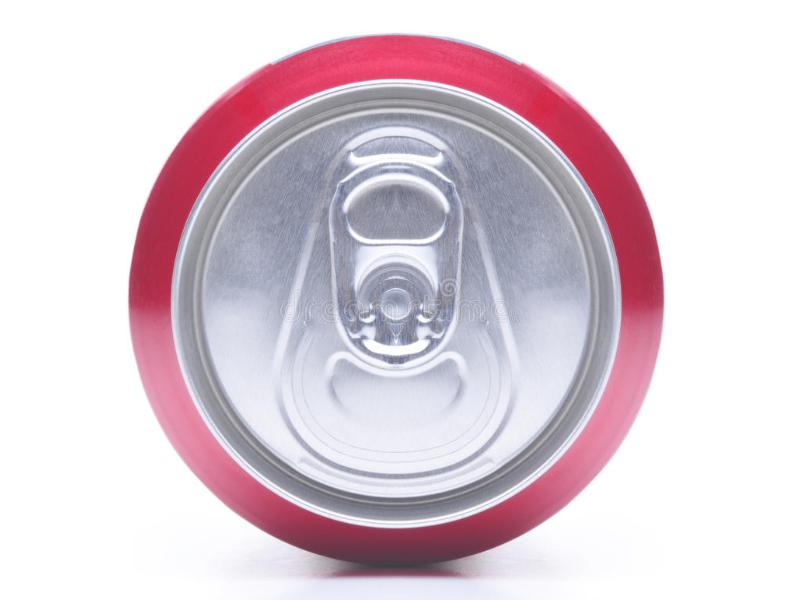can: (121, 23, 672, 576)
